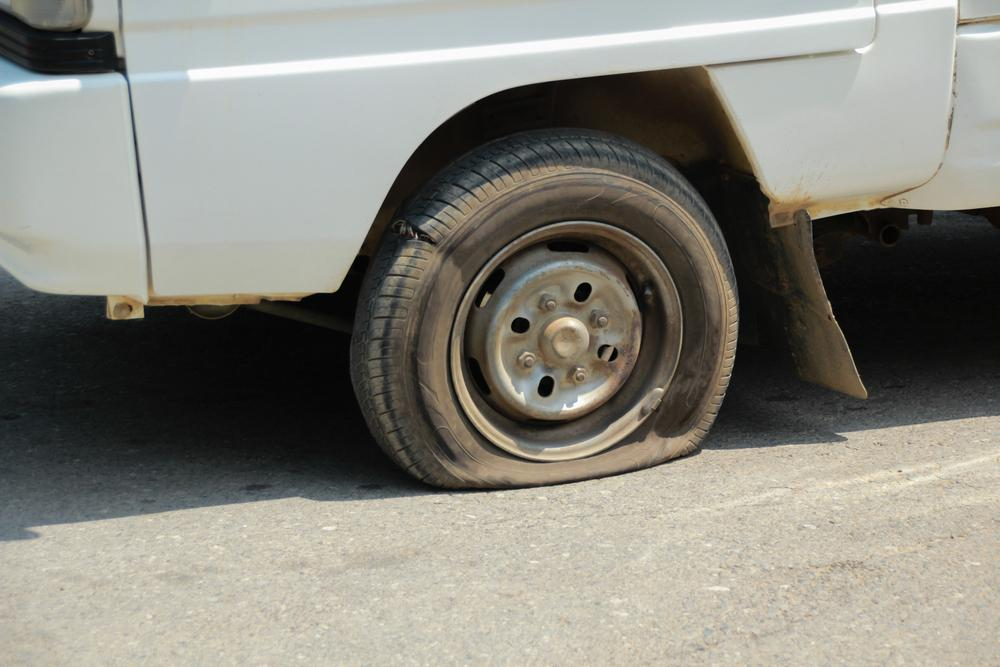tire flat: (353, 119, 738, 490)
